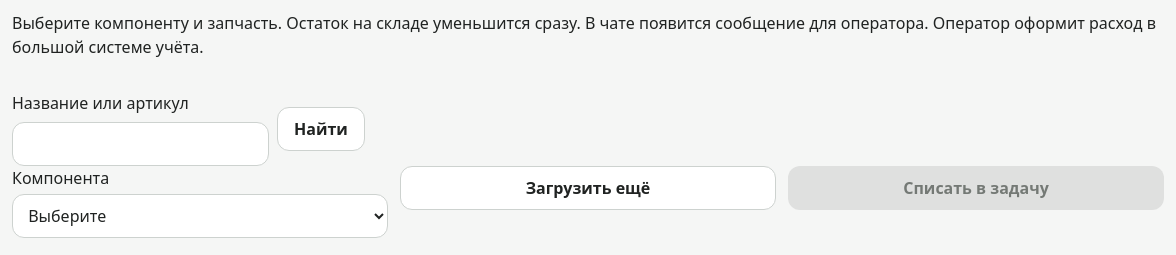
Test case: loads the next server page and exposes the 201st issue-park part
Click the button "Загрузить ещё". click: (588, 188)
box: x1=400 y1=166 x2=776 y2=210
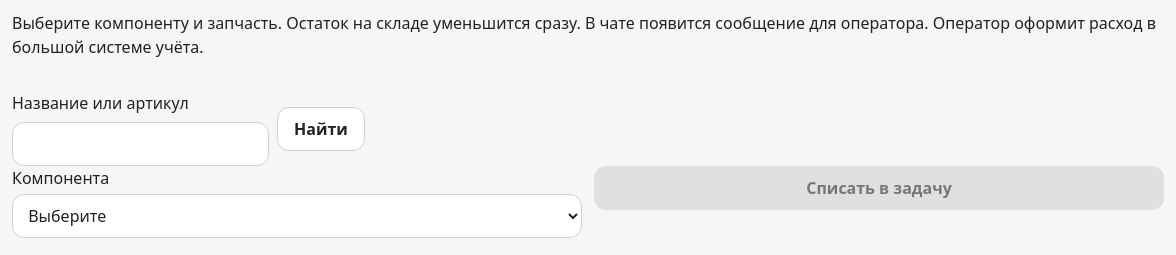
Expected: the button "Загрузить ещё" is gone
